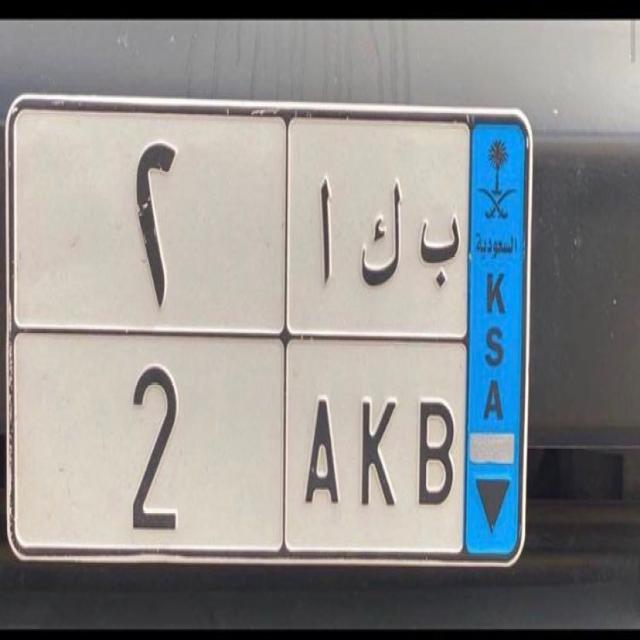license_plate: (92, 351, 462, 542)
